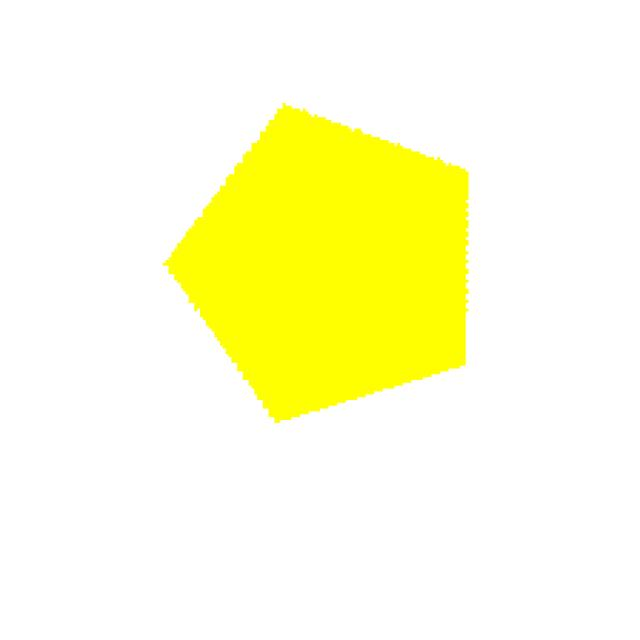Pentagon: (128, 53, 578, 428)
